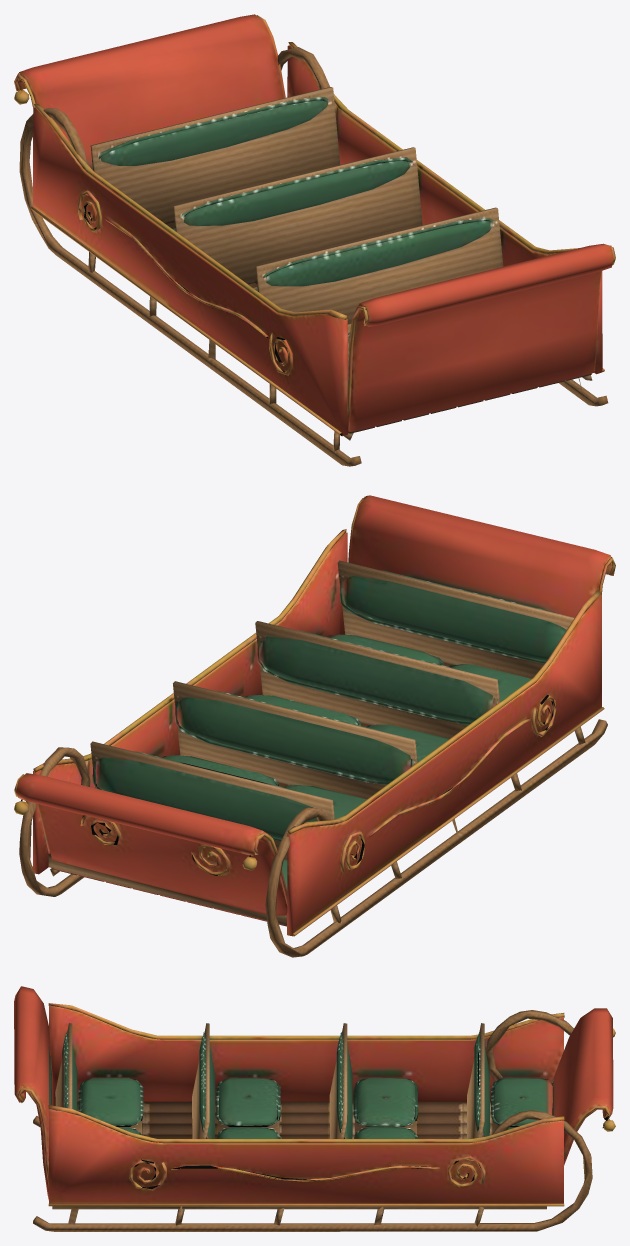
Rendered from sled_large.glb.
3 renders of one model, top to bottom at view 1: azimuth 30°, elevation 25°; view 2: azimuth 150°, elevation 25°; view 3: azimuth 270°, elevation 25°, orthographic. The views are drawn at different scales.
Parts seen in each view (by area): view 1: prop_sled_large_felt, prop_sled_large_wood; view 2: prop_sled_large_felt, prop_sled_large_wood; view 3: prop_sled_large_felt, prop_sled_large_wood.
Part boxes in pixels (left/top/right/bottom): prop_sled_large_felt: left=14, top=14, right=615, bottom=436; prop_sled_large_wood: left=19, top=47, right=608, bottom=466; prop_sled_large_felt: left=14, top=495, right=615, bottom=936; prop_sled_large_wood: left=19, top=560, right=607, bottom=957; prop_sled_large_felt: left=14, top=986, right=615, bottom=1206; prop_sled_large_wood: left=33, top=1010, right=592, bottom=1231.
Size of the model in its own units: 2.05 by 1.29 by 4.82.
Materials: 2 (2 with a texture image).
